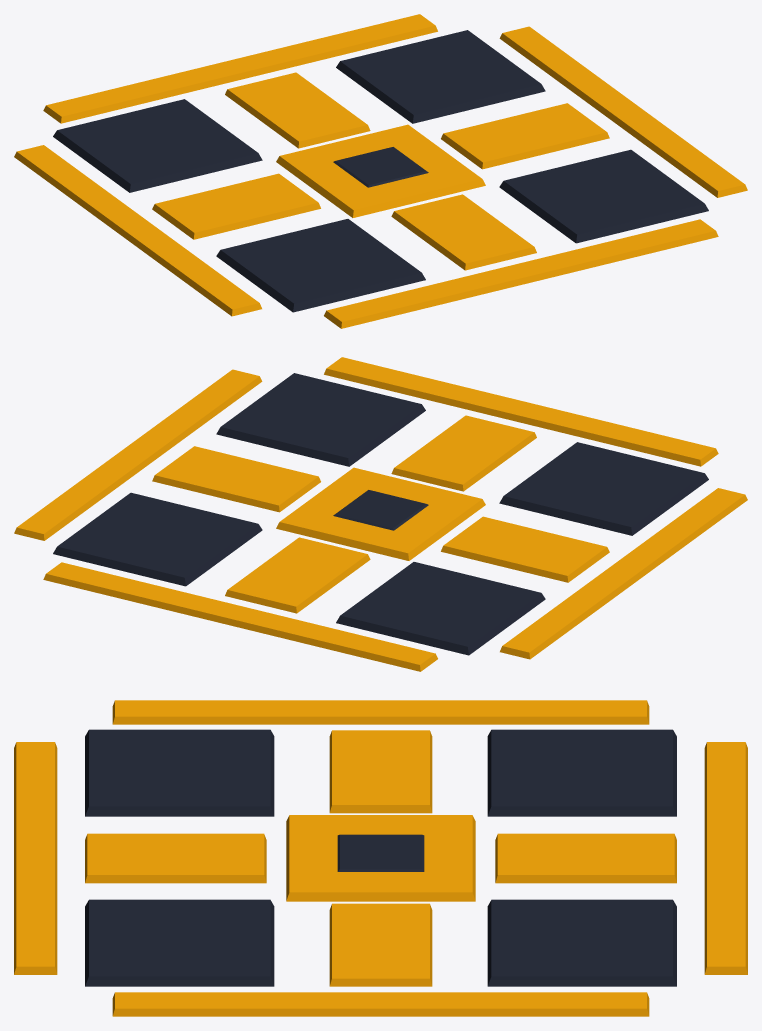
File: SM_ArenaTile_Overlay_02_Warning.obj
3 views of the same model, one above another, from view 1: azimuth 30°, elevation 25°; view 2: azimuth 150°, elevation 25°; view 3: azimuth 270°, elevation 25° (orthographic). The views are drawn at different scales.
Visible parts, largest first — view 1: SM_ArenaTile_Overlay_02_Warning__EMI_Amber, SM_ArenaTile_Overlay_02_Warning__MAT_DarkNeutral; view 2: SM_ArenaTile_Overlay_02_Warning__EMI_Amber, SM_ArenaTile_Overlay_02_Warning__MAT_DarkNeutral; view 3: SM_ArenaTile_Overlay_02_Warning__EMI_Amber, SM_ArenaTile_Overlay_02_Warning__MAT_DarkNeutral.
Boxes of the visible parts, x1=… form: SM_ArenaTile_Overlay_02_Warning__EMI_Amber: x1=14, y1=14, x2=747, y2=328; SM_ArenaTile_Overlay_02_Warning__MAT_DarkNeutral: x1=53, y1=30, x2=708, y2=312; SM_ArenaTile_Overlay_02_Warning__EMI_Amber: x1=14, y1=357, x2=747, y2=671; SM_ArenaTile_Overlay_02_Warning__MAT_DarkNeutral: x1=53, y1=373, x2=708, y2=655; SM_ArenaTile_Overlay_02_Warning__EMI_Amber: x1=14, y1=700, x2=747, y2=1016; SM_ArenaTile_Overlay_02_Warning__MAT_DarkNeutral: x1=85, y1=729, x2=676, y2=986.
Size of the model in its own units: 9.3 by 0.135 by 9.3.
Materials: 2 (2 with a texture image).
